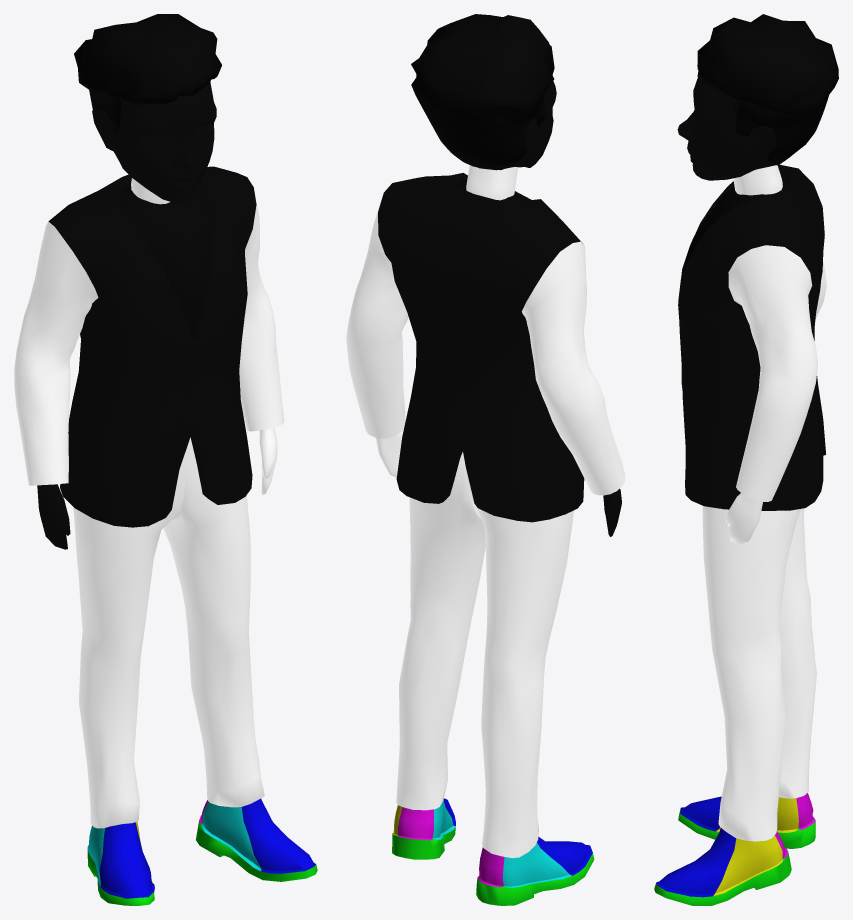
Rendered from fa-proportion-idle.glb.
3 views of the same model, side by side, from view 1: azimuth 30°, elevation 25°; view 2: azimuth 150°, elevation 25°; view 3: azimuth 270°, elevation 25° (orthographic). The views are drawn at different scales.
Parts seen in each view (by area): view 1: Formal_Jacket, Formal_pants_L, Formal_pants_R, Formal_sleeve_R, Hairs_Undercut_Curly.001, Face_Human.001, Body_Human, Boot_short_L, Formal_sleeve_L, Boot_short_R, Arm_R, Arm_L; view 2: Formal_Jacket, Formal_pants_R, Formal_pants_L, Hairs_Undercut_Curly.001, Formal_sleeve_R, Formal_sleeve_L, Boot_short_R, Boot_short_L, Face_Human_neck, Face_Human.001, Arm_L, Arm_R; view 3: Formal_Jacket, Formal_pants_L, Formal_sleeve_L, Hairs_Undercut_Curly.001, Formal_pants_R, Boot_short_L, Face_Human.001, Boot_short_R, Arm_L, Face_Human_neck, Body_Human.
Boxes of the visible parts, bbox=[...] form: Formal_Jacket: bbox=[48, 166, 256, 527]; Formal_pants_L: bbox=[163, 437, 264, 807]; Formal_pants_R: bbox=[73, 445, 187, 828]; Formal_sleeve_R: bbox=[14, 221, 98, 485]; Hairs_Undercut_Curly.001: bbox=[74, 14, 221, 132]; Face_Human.001: bbox=[92, 82, 216, 203]; Body_Human: bbox=[119, 184, 207, 338]; Boot_short_L: bbox=[196, 798, 317, 881]; Formal_sleeve_L: bbox=[239, 189, 284, 431]; Boot_short_R: bbox=[87, 821, 154, 905]; Arm_R: bbox=[37, 484, 70, 549]; Arm_L: bbox=[259, 427, 277, 494]; Formal_Jacket: bbox=[378, 173, 584, 522]; Formal_pants_R: bbox=[465, 465, 573, 858]; Formal_pants_L: bbox=[396, 452, 485, 810]; Hairs_Undercut_Curly.001: bbox=[411, 14, 554, 170]; Formal_sleeve_R: bbox=[522, 241, 625, 495]; Formal_sleeve_L: bbox=[346, 201, 408, 438]; Boot_short_R: bbox=[476, 836, 594, 905]; Boot_short_L: bbox=[392, 798, 455, 859]; Face_Human_neck: bbox=[466, 165, 517, 200]; Face_Human.001: bbox=[477, 81, 556, 170]; Arm_L: bbox=[376, 430, 403, 477]; Arm_R: bbox=[603, 488, 621, 536]; Formal_Jacket: bbox=[678, 164, 825, 510]; Formal_pants_L: bbox=[702, 506, 800, 841]; Formal_sleeve_L: bbox=[728, 245, 817, 501]; Hairs_Undercut_Curly.001: bbox=[697, 14, 838, 165]; Formal_pants_R: bbox=[779, 508, 816, 798]; Boot_short_L: bbox=[654, 828, 791, 905]; Face_Human.001: bbox=[677, 77, 776, 180]; Boot_short_R: bbox=[678, 793, 815, 848]; Arm_L: bbox=[726, 493, 762, 544]; Face_Human_neck: bbox=[733, 165, 782, 195]; Body_Human: bbox=[683, 178, 784, 271].
Size of the model in its own units: 0.5676 by 1.8 by 0.3643.
